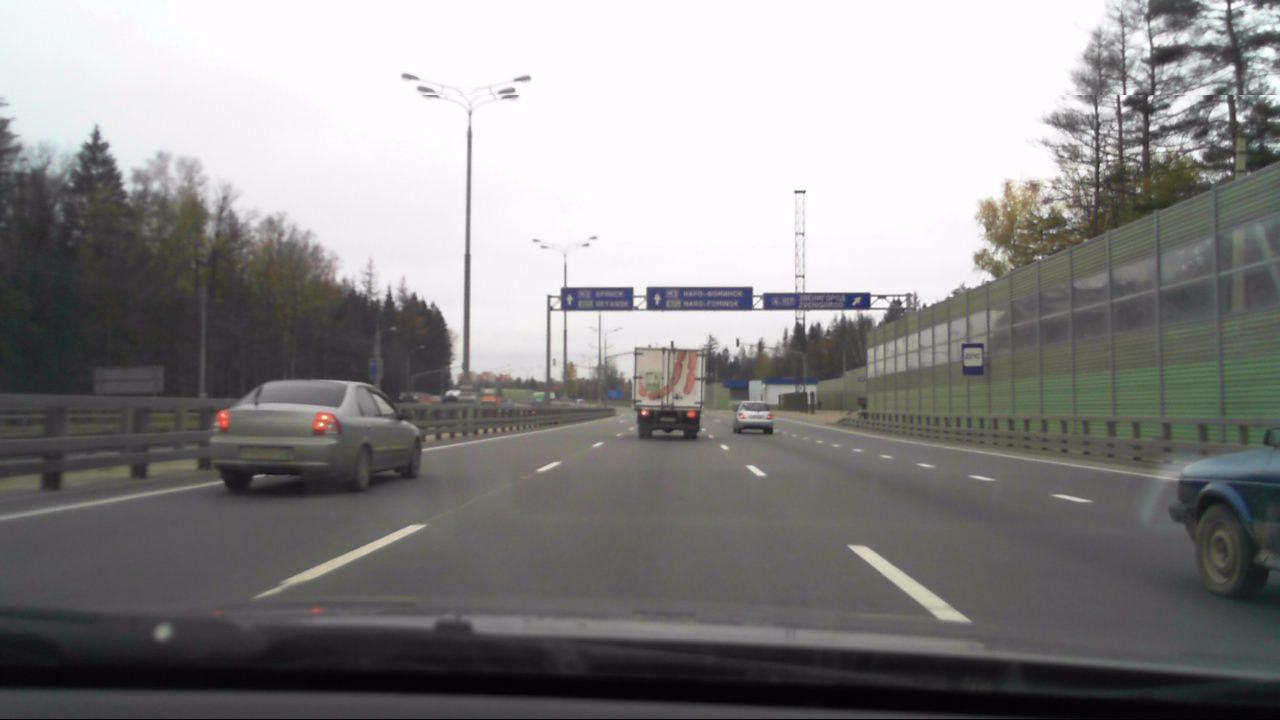6_10_1: (645, 286, 756, 312), (563, 283, 634, 313), (765, 291, 872, 309)
7_12: (961, 343, 983, 375)
